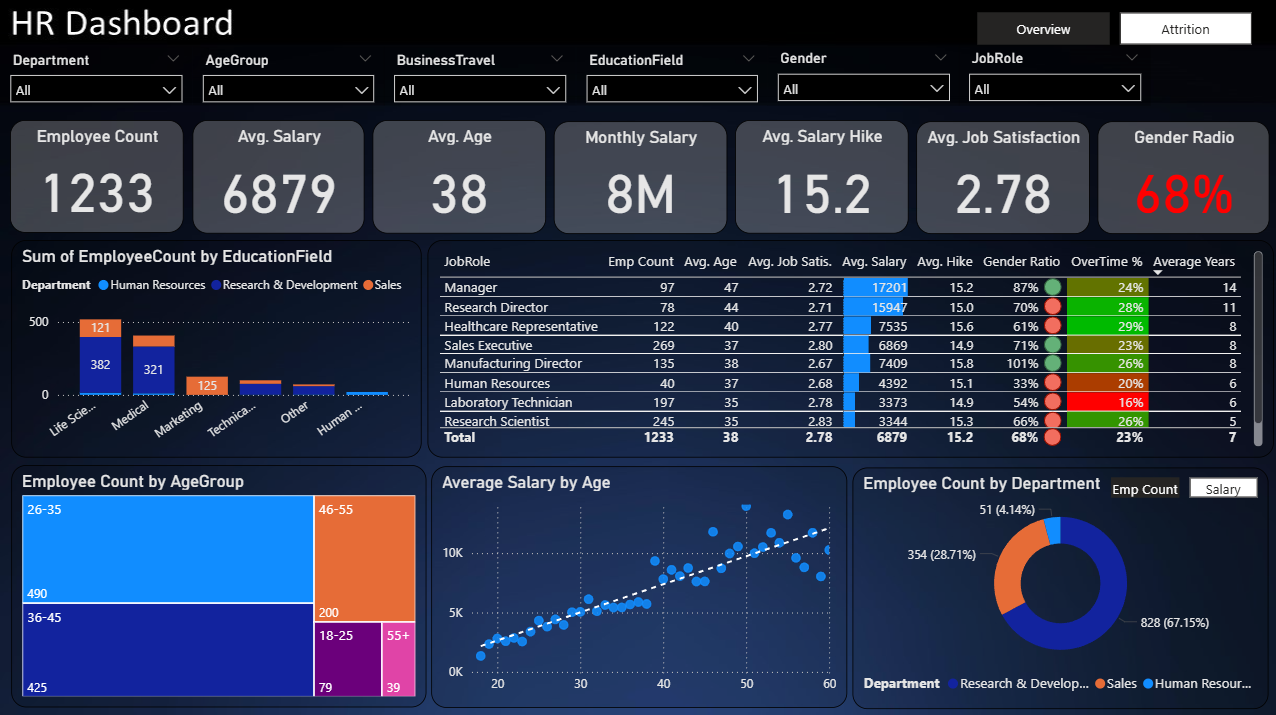

Layout of this report page (visuals, bound fields, positions):
{"tool":"powerbi","page":{"name":"Overview","canvas":[1280,720],"ordinal":0},"visuals":[{"type":"slicer","fields":{"Values":["Department.Department"]},"box":[0,45.8,192.1,59.3],"z":0},{"type":"card","title":"Employee Count","fields":{"Values":["HR_Analytics.Employee Count"]},"box":[10.5,120.6,173.5,113],"z":1000},{"type":"slicer","fields":{"Values":["HR_Analytics.AgeGroup"]},"box":[192.1,45.8,191.9,59.3],"z":2000},{"type":"slicer","fields":{"Values":["HR_Analytics.BusinessTravel"]},"box":[383.8,45.8,192.1,59.3],"z":3000},{"type":"slicer","fields":{"Values":["HR_Analytics.Gender"]},"box":[767.2,45.1,192.1,60.7],"z":4000},{"type":"slicer","fields":{"Values":["HR_Analytics.EducationField"]},"box":[575.9,45.8,191.4,59.3],"z":5000},{"type":"slicer","fields":{"Values":["HR_Analytics.JobRole"]},"box":[959.3,45.1,192.1,60.7],"z":6000},{"type":"card","title":"Avg. Salary","fields":{"Values":["HR_Analytics.Average Salary"]},"box":[192.1,120.1,172.1,114],"z":7000},{"type":"card","title":"Avg. Age","fields":{"Values":["HR_Analytics.Average Age"]},"box":[372.3,120.1,173.3,114],"z":8000},{"type":"card","title":"Monthly Salary","fields":{"Values":["HR_Analytics.Monthly Salary"]},"box":[553.6,120.7,173.3,112.8],"z":9000},{"type":"card","title":"Avg. Salary Hike","fields":{"Values":["HR_Analytics.Average Salary Hike"]},"box":[735,120.1,173.3,114],"z":10000},{"type":"card","title":"Avg. Job Satisfaction","fields":{"Values":["Avg(HR_Analytics.JobSatisfaction)"]},"box":[916.3,120.7,173.3,112.8],"z":11000},{"type":"card","title":"Gender Radio","fields":{"Values":["HR_Analytics.Gender Ratio"]},"box":[1097.7,120.7,172.1,112.8],"z":12000},{"type":"columnChart","title":"Sum of EmployeeCount by EducationField","fields":{"Category":["HR_Analytics.EducationField"],"Y":["Sum(HR_Analytics.EmployeeCount)"],"Series":["HR_Analytics.Department"]},"box":[10.8,240,410,217.7],"z":13000},{"type":"treemap","fields":{"Values":["HR_Analytics.Employee Count"],"Group":["HR_Analytics.AgeGroup"]},"box":[11.2,465,415,242.5],"z":14000},{"type":"donutChart","fields":{"Y":["HR_Analytics.Employee Count"],"Category":["HR_Analytics.Department"]},"box":[852.9,467.1,415.7,241.4],"z":15000},{"type":"tableEx","fields":{"Values":["HR_Analytics.JobRole","HR_Analytics.Employee Count","HR_Analytics.Average Age","HR_Analytics.Average Job Satisfaction","HR_Analytics.Average Salary","HR_Analytics.Average Salary Hike","HR_Analytics.Gender Ratio","HR_Analytics.OverTime %","HR_Analytics.Average Years"]},"box":[427.5,240,846.2,217.5],"z":16000},{"type":"scatterChart","fields":{"X":["HR_Analytics.Age"],"Y":["HR_Analytics.Average Salary"]},"box":[431.4,465.7,415.7,241.4],"z":17000},{"type":"pageNavigator","box":[977.9,12.8,275.6,32.6],"z":18000},{"type":"bookmarkNavigator","box":[1110.8,476.9,146.2,20],"z":20000}]}

Visuals, with their boxes in screenshot pixels (x1, y1, x2, y2), scaled from the page's 1280x720 canvas onto the 1276x715 screenshot:
slicer - Department.Department: left=0, top=45, right=191, bottom=104
"Employee Count" card: left=10, top=120, right=183, bottom=232
slicer - HR_Analytics.AgeGroup: left=191, top=45, right=383, bottom=104
slicer - HR_Analytics.BusinessTravel: left=383, top=45, right=574, bottom=104
slicer - HR_Analytics.Gender: left=765, top=45, right=956, bottom=105
slicer - HR_Analytics.EducationField: left=574, top=45, right=765, bottom=104
slicer - HR_Analytics.JobRole: left=956, top=45, right=1148, bottom=105
"Avg. Salary" card: left=191, top=119, right=363, bottom=232
"Avg. Age" card: left=371, top=119, right=544, bottom=232
"Monthly Salary" card: left=552, top=120, right=725, bottom=232
"Avg. Salary Hike" card: left=733, top=119, right=905, bottom=232
"Avg. Job Satisfaction" card: left=913, top=120, right=1086, bottom=232
"Gender Radio" card: left=1094, top=120, right=1266, bottom=232
"Sum of EmployeeCount by EducationField" columnChart: left=11, top=238, right=419, bottom=455
treemap - HR_Analytics.Employee Count x HR_Analytics.AgeGroup: left=11, top=462, right=425, bottom=703
donutChart - HR_Analytics.Employee Count x HR_Analytics.Department: left=850, top=464, right=1265, bottom=704
tableEx - HR_Analytics.JobRole x HR_Analytics.Employee Count: left=426, top=238, right=1270, bottom=454
scatterChart - HR_Analytics.Age x HR_Analytics.Average Salary: left=430, top=462, right=844, bottom=702
pageNavigator: left=975, top=13, right=1250, bottom=45
bookmarkNavigator: left=1107, top=474, right=1253, bottom=493
